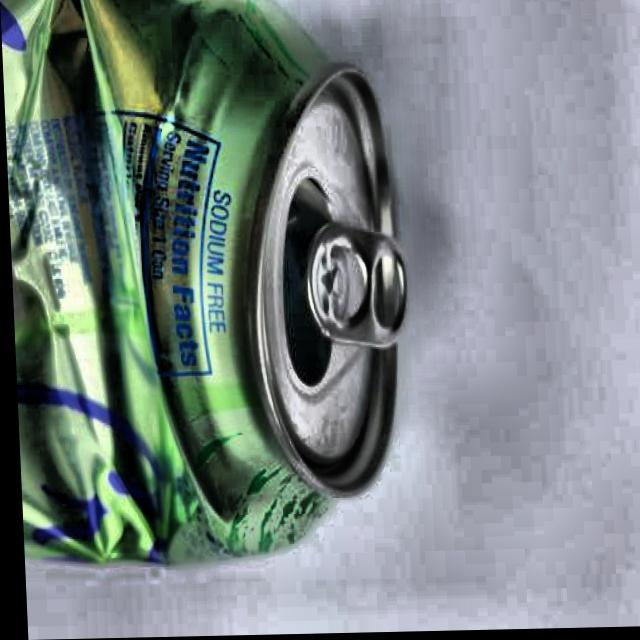metal: (0, 0, 422, 570)
